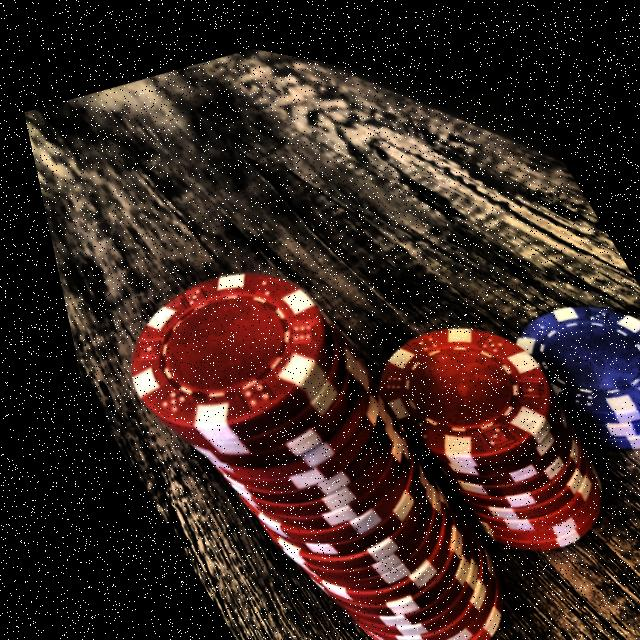Chip: (55, 203, 530, 640), (322, 262, 633, 583), (473, 238, 640, 469)
